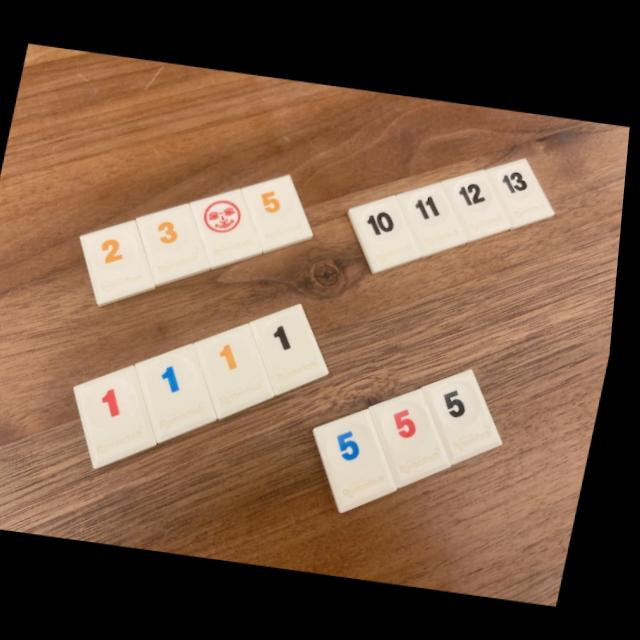black_1: (255, 303, 335, 394)
black_10: (353, 194, 426, 272)
black_11: (400, 181, 471, 255)
black_12: (445, 168, 515, 239)
black_13: (488, 156, 558, 226)
black_5: (428, 368, 510, 462)
blue_1: (142, 343, 224, 442)
blue_5: (321, 408, 405, 511)
joker: (194, 188, 266, 268)
orange_1: (201, 323, 281, 417)
orange_2: (85, 219, 160, 305)
orange_3: (139, 203, 214, 285)
orange_5: (245, 174, 317, 251)
red_1: (81, 365, 164, 468)
red_5: (376, 387, 459, 486)
